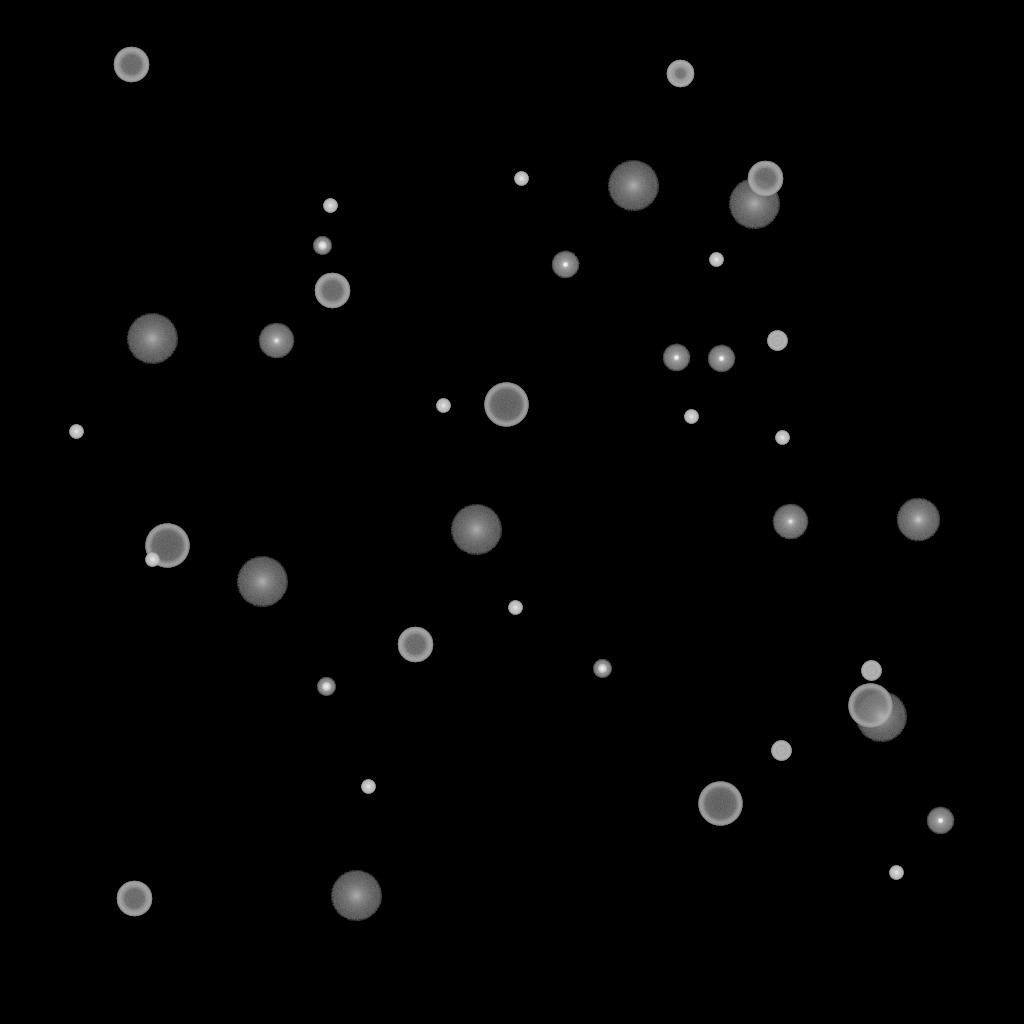depth:-10: (551, 251, 579, 279), (662, 344, 690, 372), (926, 807, 954, 835), (707, 345, 735, 373)
depth:-20: (593, 660, 611, 678), (313, 237, 331, 255), (317, 678, 335, 696)
depth:-30: (361, 780, 375, 794), (508, 601, 522, 615), (323, 199, 337, 213), (709, 253, 723, 267), (436, 399, 450, 413), (514, 172, 528, 186), (145, 553, 159, 567), (775, 431, 789, 445), (889, 866, 903, 880), (69, 425, 83, 439), (684, 410, 698, 424)
depth:-40: (861, 661, 881, 681), (771, 741, 791, 761), (767, 331, 787, 351)
depth:-50: (666, 60, 694, 88)
depth:-60: (397, 627, 433, 663), (116, 881, 152, 917), (113, 47, 149, 83), (314, 273, 350, 309), (747, 161, 783, 197)
depth:-70: (484, 383, 528, 427), (698, 782, 742, 826), (145, 524, 189, 568), (848, 684, 892, 728)
depth:0: (258, 323, 294, 359), (772, 504, 808, 540)
depth:10: (896, 498, 940, 542)
depth:20: (607, 161, 659, 211), (330, 871, 382, 921), (728, 179, 780, 229), (855, 692, 907, 742), (126, 314, 178, 364), (236, 557, 288, 607), (450, 505, 502, 555)
